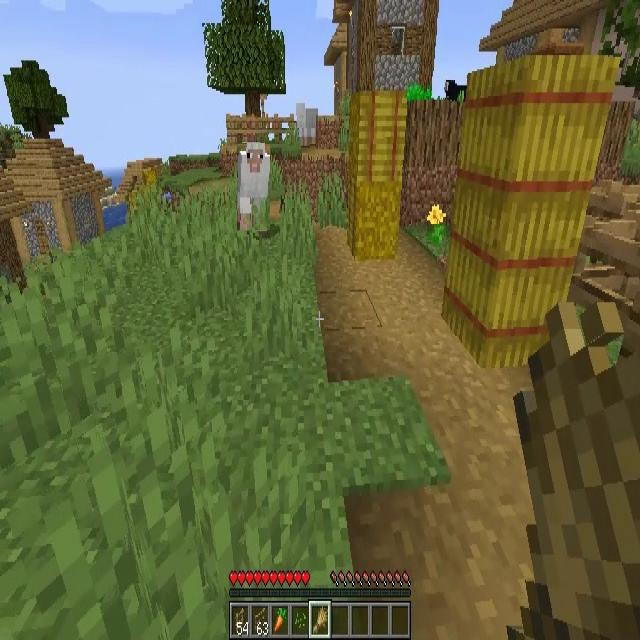flower: (427, 204, 446, 244)
sheep: (237, 143, 270, 230), (295, 105, 317, 145)
